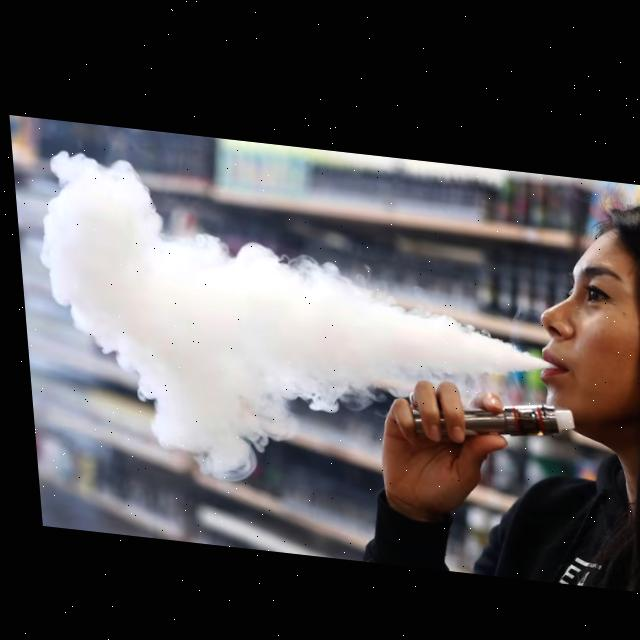vape: (405, 381, 571, 440)
